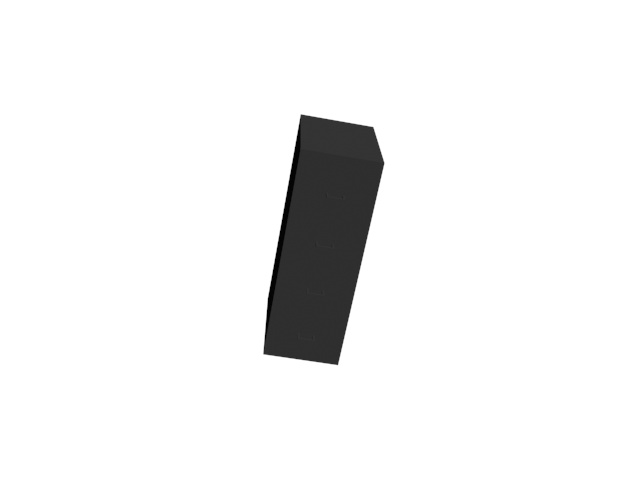file_cabinet: (257, 113, 392, 368)
